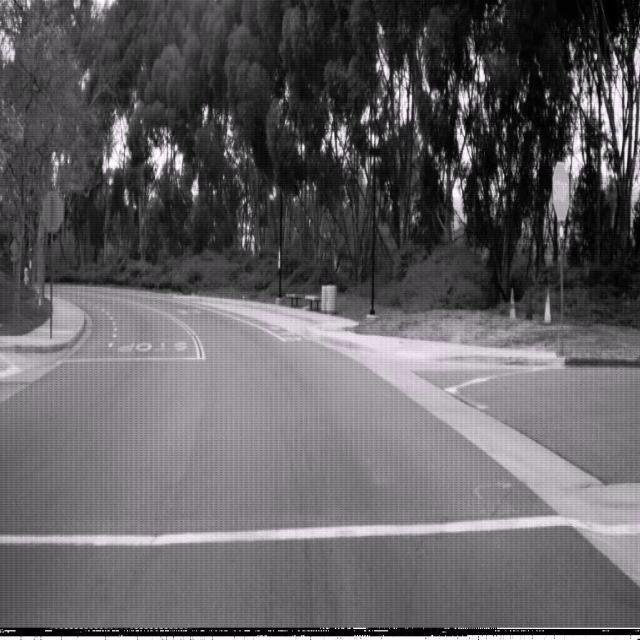stop: (552, 160, 570, 220)
